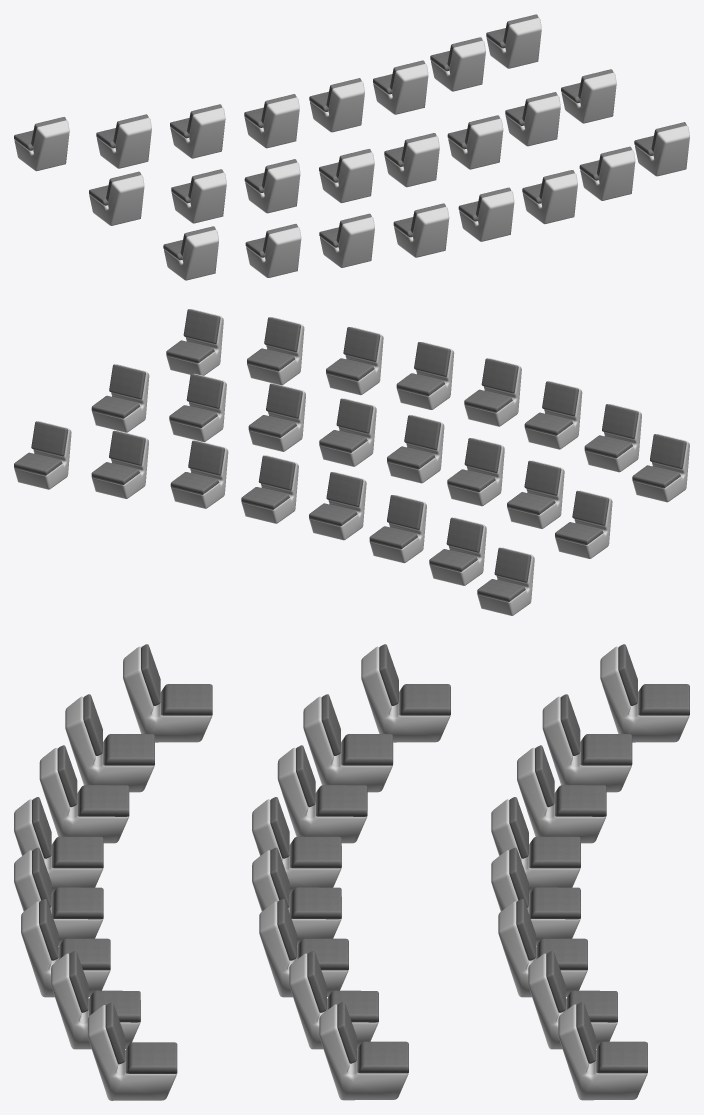
File: chair.fbx
The picture shows the model from 3 angles, top to bottom: view 1: azimuth 30°, elevation 25°; view 2: azimuth 150°, elevation 25°; view 3: azimuth 270°, elevation 25°; orthographic projection. The views are drawn at different scales.
Parts seen in each view (by area): view 1: chair_021, chair_016, chair_010, chair_012, chair_013, chair_024, chair_015, chair_022, chair_003, chair_007, chair_008, chair_019 (+12 smaller); view 2: chair_006, chair_022, chair_016, chair_010, chair_012, chair_015, chair_017, chair_013, chair_021, chair_005, chair_009, chair_011 (+12 smaller); view 3: chair_026, chair_010, chair_001, chair_009, chair_025, chair_017, chair_023, chair_015, chair_008, chair_007, chair_016, chair_024 (+12 smaller).
Boxes of the visible parts, x1,y1,x2,y2 form: chair_021: [458, 187, 514, 241]; chair_016: [171, 169, 226, 223]; chair_010: [561, 69, 616, 123]; chair_012: [447, 115, 503, 169]; chair_013: [384, 133, 439, 187]; chair_024: [245, 224, 301, 277]; chair_015: [244, 159, 300, 213]; chair_022: [393, 203, 449, 257]; chair_003: [430, 37, 485, 91]; chair_007: [170, 104, 225, 158]; chair_008: [96, 114, 151, 168]; chair_019: [579, 146, 635, 200]; chair_006: [309, 472, 366, 540]; chair_022: [464, 358, 521, 426]; chair_016: [507, 460, 564, 528]; chair_010: [91, 364, 149, 432]; chair_012: [248, 383, 305, 451]; chair_015: [447, 438, 504, 506]; chair_017: [555, 490, 612, 558]; chair_013: [319, 398, 376, 466]; chair_021: [396, 342, 454, 409]; chair_005: [241, 455, 298, 523]; chair_009: [477, 547, 534, 615]; chair_011: [169, 373, 226, 441]; chair_026: [87, 1002, 177, 1100]; chair_010: [319, 1002, 408, 1100]; chair_001: [558, 1002, 647, 1100]; chair_009: [600, 644, 689, 742]; chair_025: [123, 644, 212, 742]; chair_017: [361, 644, 450, 742]; chair_023: [39, 745, 129, 843]; chair_015: [277, 745, 367, 843]; chair_008: [542, 694, 632, 792]; chair_007: [517, 745, 606, 843]; chair_016: [303, 694, 393, 792]; chair_024: [65, 694, 154, 792].
Size of the model in its own units: 1106 by 102 by 824.
Materials: 2 (1 with a texture image).
